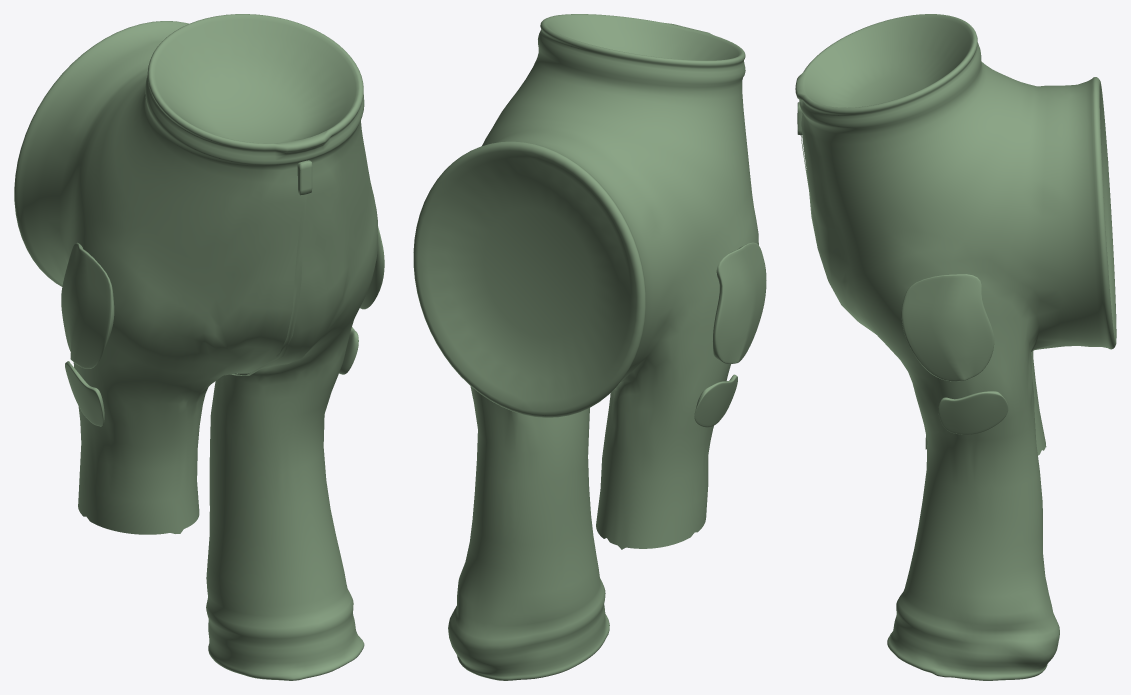
Rendered from stablesuit.obj.
3 views of the same model, side by side, from view 1: azimuth 30°, elevation 25°; view 2: azimuth 150°, elevation 25°; view 3: azimuth 270°, elevation 25° (orthographic). The views are drawn at different scales.
Parts seen in each view (by area): view 1: completesuit; view 2: completesuit; view 3: completesuit.
Boxes of the visible parts, <box> form: completesuit: <box>14,14,384,680</box>; completesuit: <box>413,14,766,680</box>; completesuit: <box>795,14,1116,680</box>.
Size of the model in its own units: 13.61 by 29.16 by 14.34.
